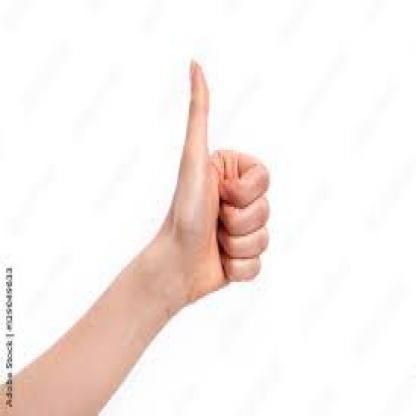thumb_up: (171, 53, 269, 300)
